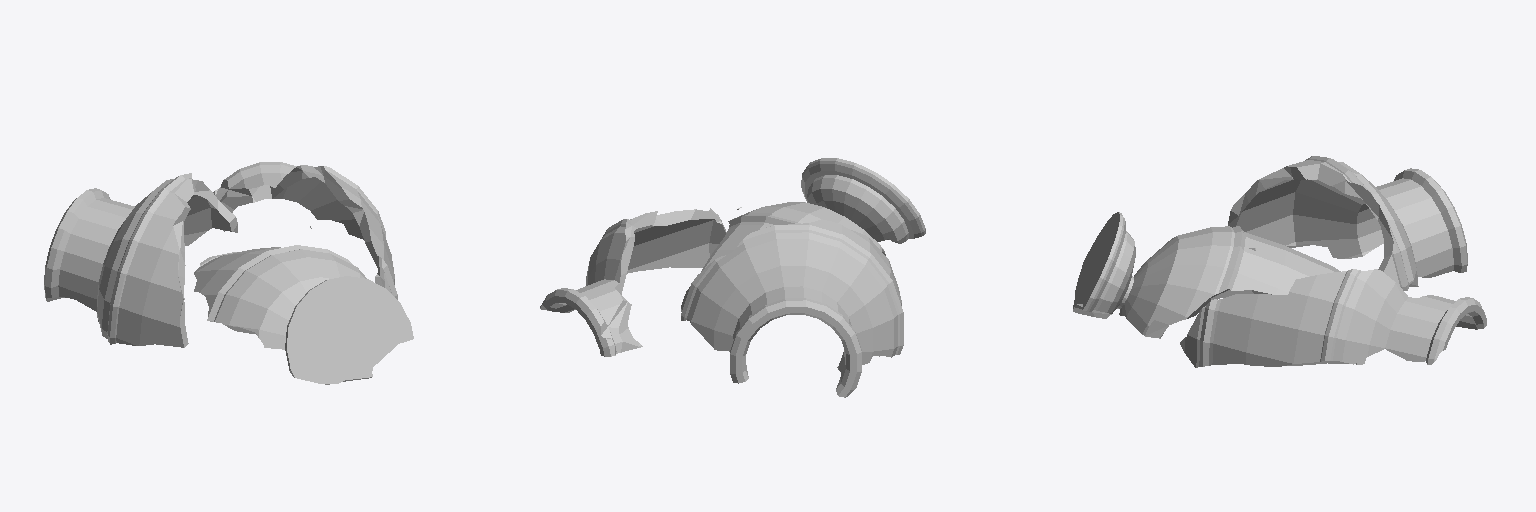
Rendered from pottery_brokenA.obj.
3 renders of one model, left to right at view 1: azimuth 30°, elevation 25°; view 2: azimuth 150°, elevation 25°; view 3: azimuth 270°, elevation 25°, orthographic.
Visible parts, largest first — view 1: default; view 2: default; view 3: default.
Part boxes in pixels (left/top/right/bottom): default: left=44, top=162, right=413, bottom=384; default: left=540, top=158, right=925, bottom=397; default: left=1073, top=156, right=1486, bottom=367.
Bounding box in the file's own units: 4.98 × 2.05 × 5.87.